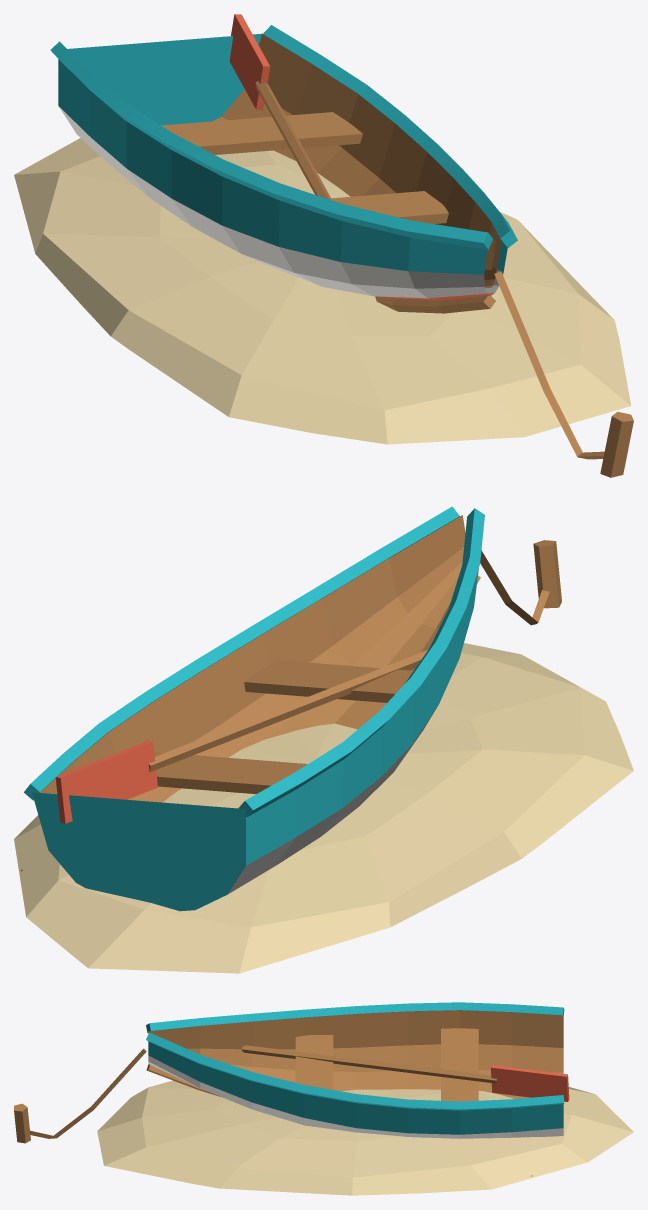
Rendered from rowboat.glb.
The picture shows the model from 3 angles, top to bottom: view 1: azimuth 30°, elevation 25°; view 2: azimuth 150°, elevation 25°; view 3: azimuth 270°, elevation 25°; orthographic projection. The views are drawn at different scales.
Visible parts, largest first — view 1: rowboat; view 2: rowboat; view 3: rowboat.
Boxes of the visible parts, <box> form: rowboat: <box>14,14,633,477</box>; rowboat: <box>14,506,633,973</box>; rowboat: <box>14,1002,633,1195</box>.
Size of the model in its own units: 1.62 by 0.6406 by 3.28.
